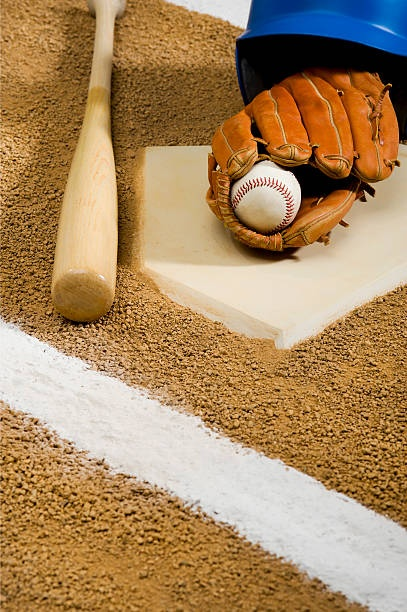bita: (51, 1, 138, 327)
